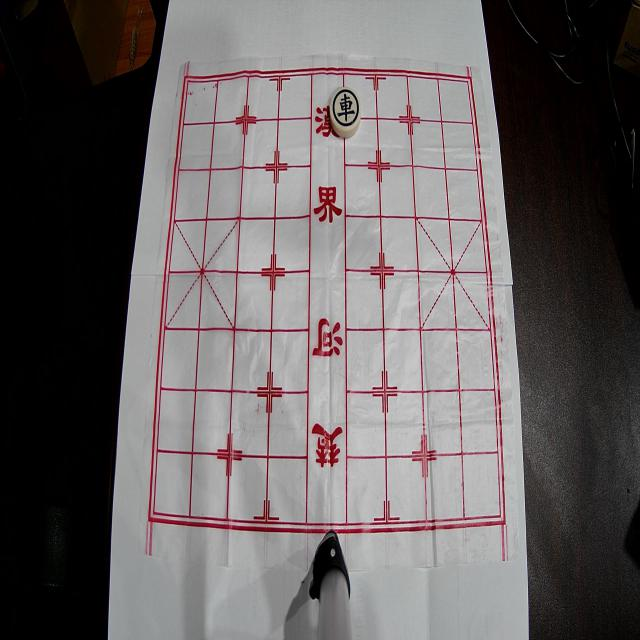black-chariot: (330, 87, 361, 137)
